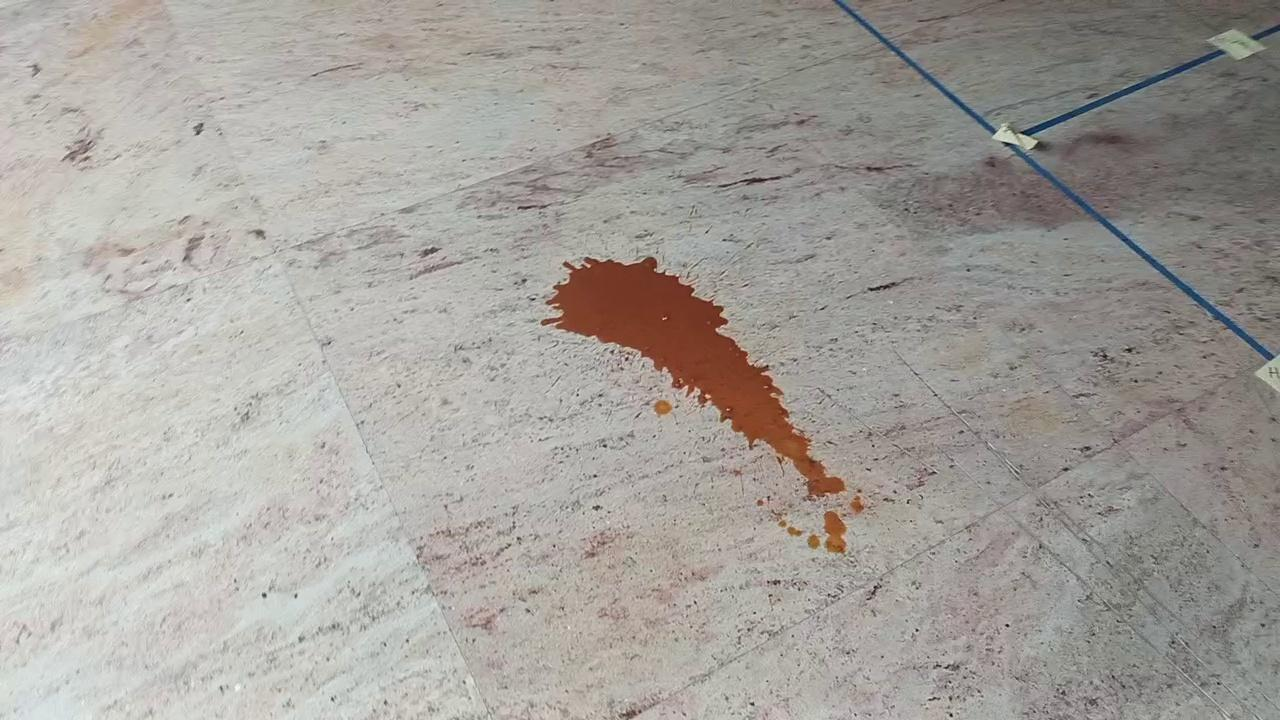dirty_floor: (544, 253, 869, 551)
